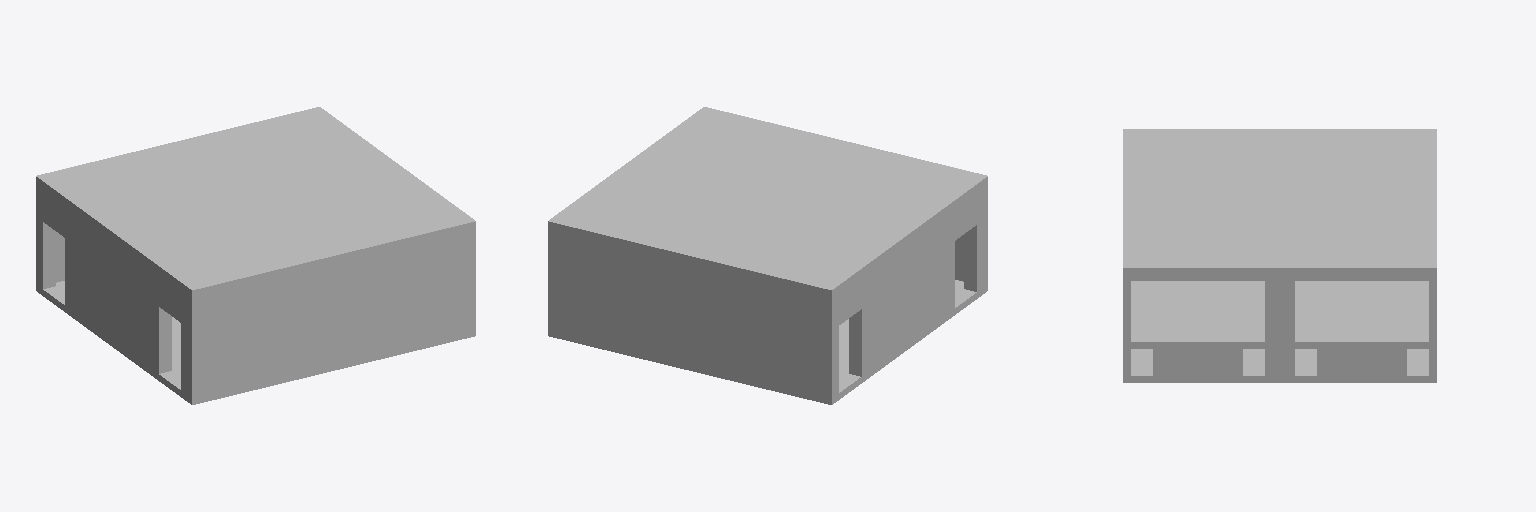
File: classroom.obj
3 views of the same model, side by side, from view 1: azimuth 30°, elevation 25°; view 2: azimuth 150°, elevation 25°; view 3: azimuth 270°, elevation 25° (orthographic).
Visible parts, largest first — view 1: ClassRoom; view 2: ClassRoom; view 3: ClassRoom.
Boxes of the visible parts, <box> form: ClassRoom: <box>36,107,475,404</box>; ClassRoom: <box>548,107,987,404</box>; ClassRoom: <box>1123,129,1436,382</box>.
Bounding box in the file's own units: 11 × 4.25 × 10.5.